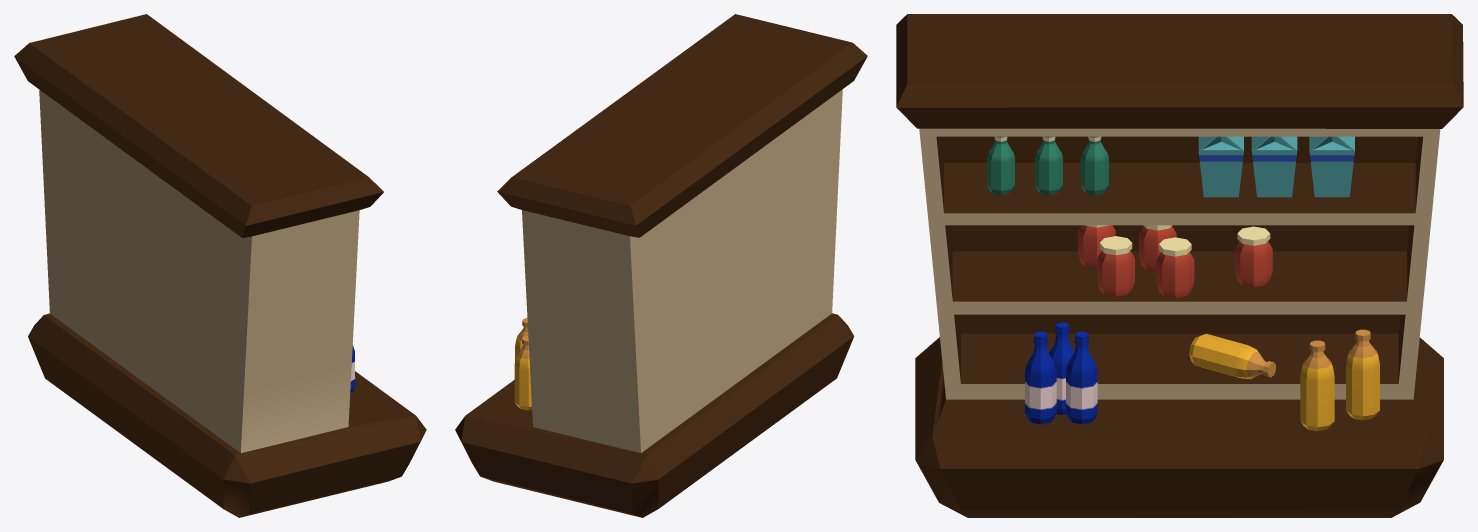
The model's file is DECO_SHELF.fbx.
3 renders of one model, left to right at view 1: azimuth 30°, elevation 25°; view 2: azimuth 150°, elevation 25°; view 3: azimuth 270°, elevation 25°, orthographic. The views are drawn at different scales.
Visible parts, largest first — view 1: pCube17; view 2: pCube17, pCylinder18; view 3: pCube17, pCylinder19, pCube29, pCylinder18, pCube30, pCube28, pCylinder20, pCylinder16, pCylinder17, pCylinder13, pCylinder14, pCylinder11 (+6 smaller).
Part boxes in pixels (x1,y1,x2,y2): pCube17: (14,14,426,517); pCube17: (455,14,867,517); pCylinder18: (514,336,531,410); pCube17: (896,14,1463,517); pCylinder19: (1300,340,1334,431); pCube29: (1251,136,1297,197); pCylinder18: (1346,329,1379,420); pCube30: (1309,136,1354,197); pCube28: (1198,136,1243,197); pCylinder20: (1189,333,1275,379); pCylinder16: (1025,331,1056,424); pCylinder17: (1066,331,1097,424); pCylinder13: (1156,237,1194,297); pCylinder14: (1235,226,1272,287); pCylinder11: (1097,236,1134,296).
Bounding box in the file's own units: 4.41 × 6.89 × 8.69.
6 materials, 6 textured.
